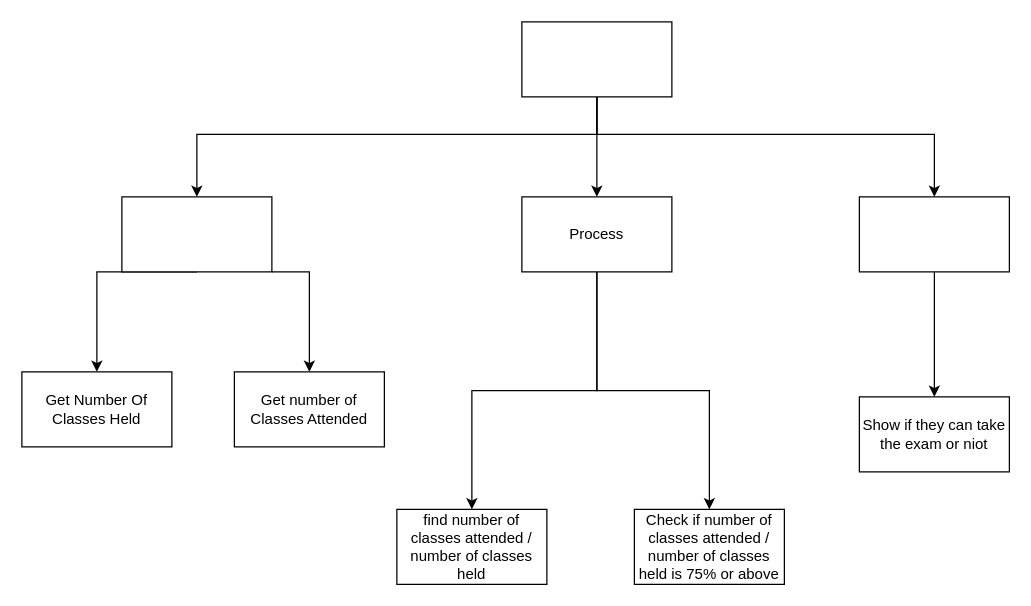
Some shapes in this 1031 by 606 pixel diagram are drawn without their labels. Here are the shapes that lost their labels. From the top down, the centre of each, then its label:
At (x=596, y=59): "Exam Program".
At (x=196, y=234): "Input".
At (x=933, y=234): "Output".
